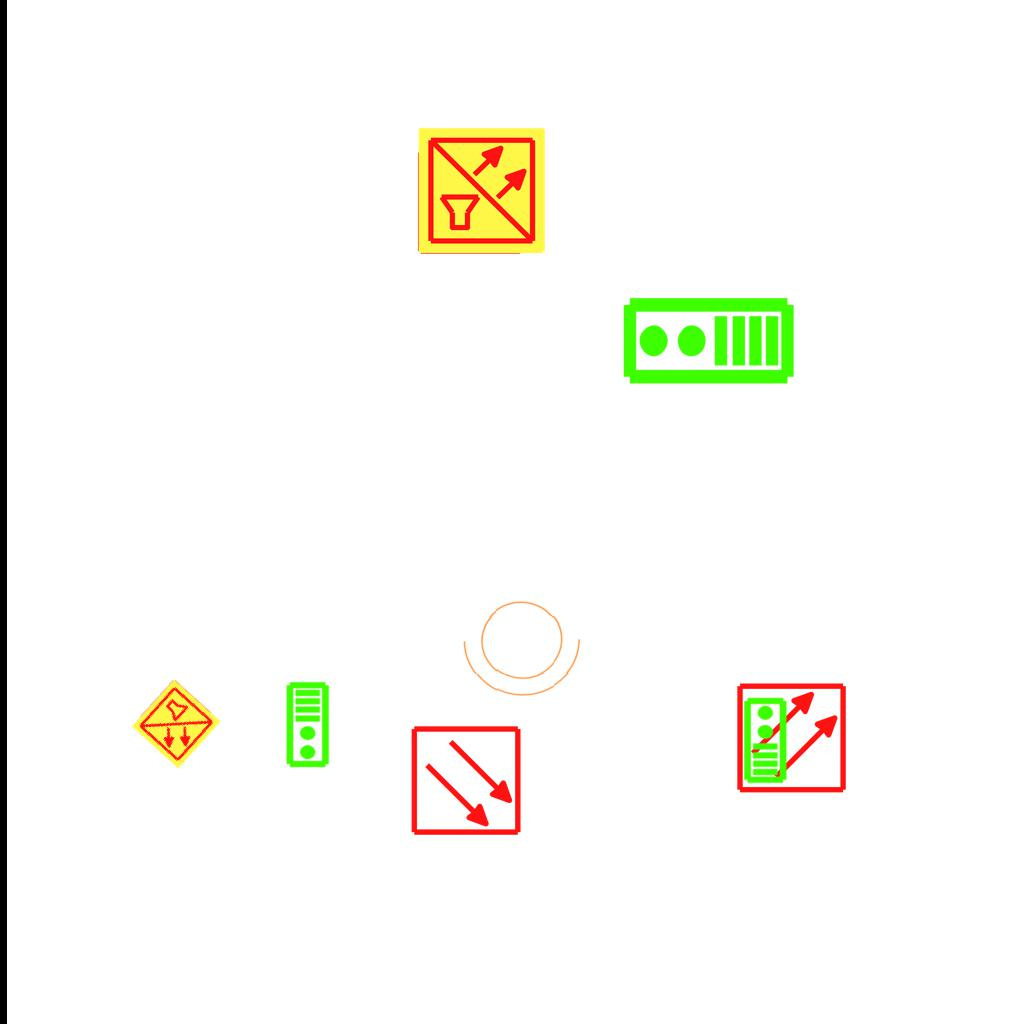Gegensprechanlage_mit_Video: (620, 295, 796, 390), (285, 681, 332, 769), (741, 696, 788, 784)
OKW_Multisensormelder_(Kombination_optischer_Rauch-Kahlenmonoxid_Waerme-Melder): (416, 125, 548, 257), (129, 677, 223, 771)
RMO_Rauchmelder_optischer: (735, 681, 848, 794), (410, 724, 523, 837)
Scheinwerfer_fuer_Alarmbeleuchtung: (458, 587, 592, 703)
